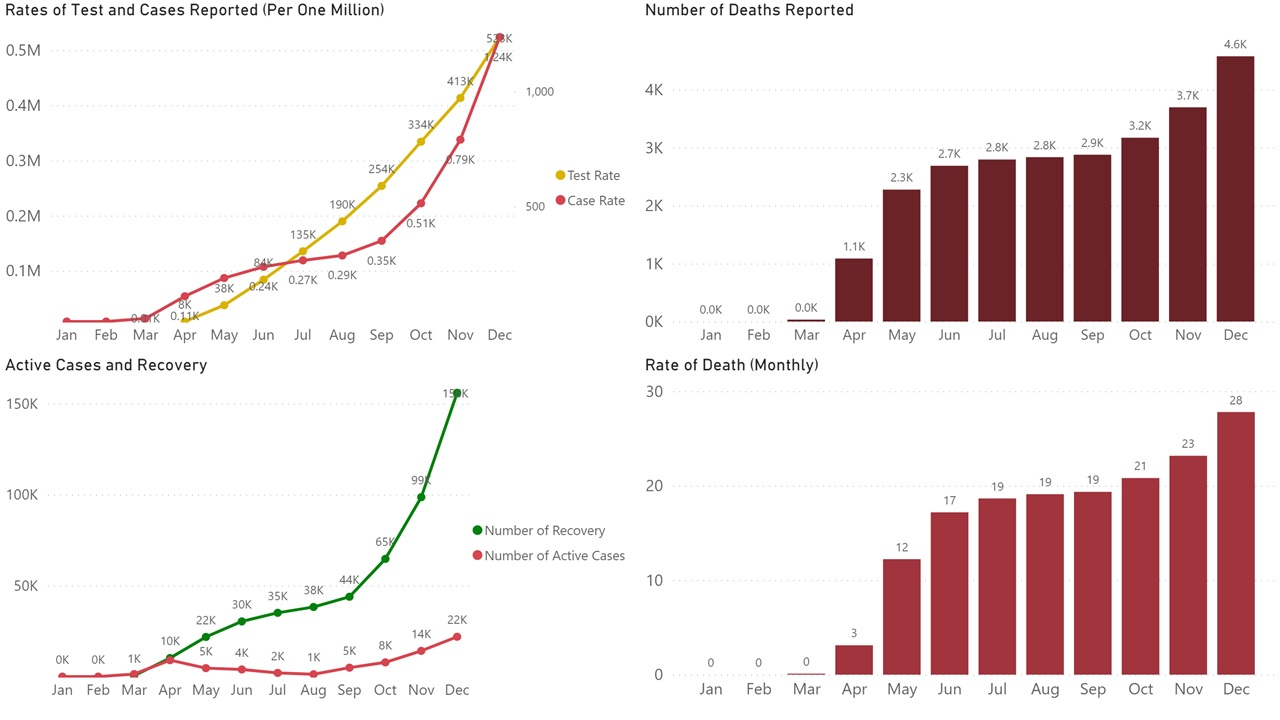

What the dashboard file says about the page in this screenshot:
{"tool":"powerbi","page":{"name":"Page 2","canvas":[1280,720],"ordinal":1},"visuals":[{"type":"lineChart","title":"Rates of Test and Cases Reported (Per One Million)","fields":{"Category":["Ontario.Monthh"],"Y2":["Max(Ontario.ratetotal)"],"Y":["Max(Ontario.ratetests)"]},"box":[0,0,639.4,360.2],"z":0},{"type":"clusteredColumnChart","title":"Rate of Death (Monthly)","fields":{"Y":["Avg(Ontario.ratedeaths)"],"Category":["Ontario.Monthh"]},"box":[640.3,360.2,639.4,360.2],"z":1000},{"type":"lineChart","title":"Active Cases and Recovery","fields":{"Y":["Max(Ontario.numrecover)","Max(Ontario.numactive)"],"Category":["Ontario.Monthh"]},"box":[0,360.2,639.4,360.2],"z":2000},{"type":"clusteredColumnChart","title":"Number of Deaths Reported","fields":{"Category":["Ontario.Monthh"],"Y":["Max(Ontario.numdeaths)"]},"box":[640,0,639,360],"z":3000}]}

Visuals, with their boxes in screenshot pixels (x1, y1, x2, y2), scaled from the page's 1280x720 canvas onto the 1280x720 screenshot:
"Rates of Test and Cases Reported (Per One Million)" lineChart: 0 0 639 360
"Rate of Death (Monthly)" clusteredColumnChart: 640 360 1279 719
"Active Cases and Recovery" lineChart: 0 360 639 719
"Number of Deaths Reported" clusteredColumnChart: 640 0 1279 360
